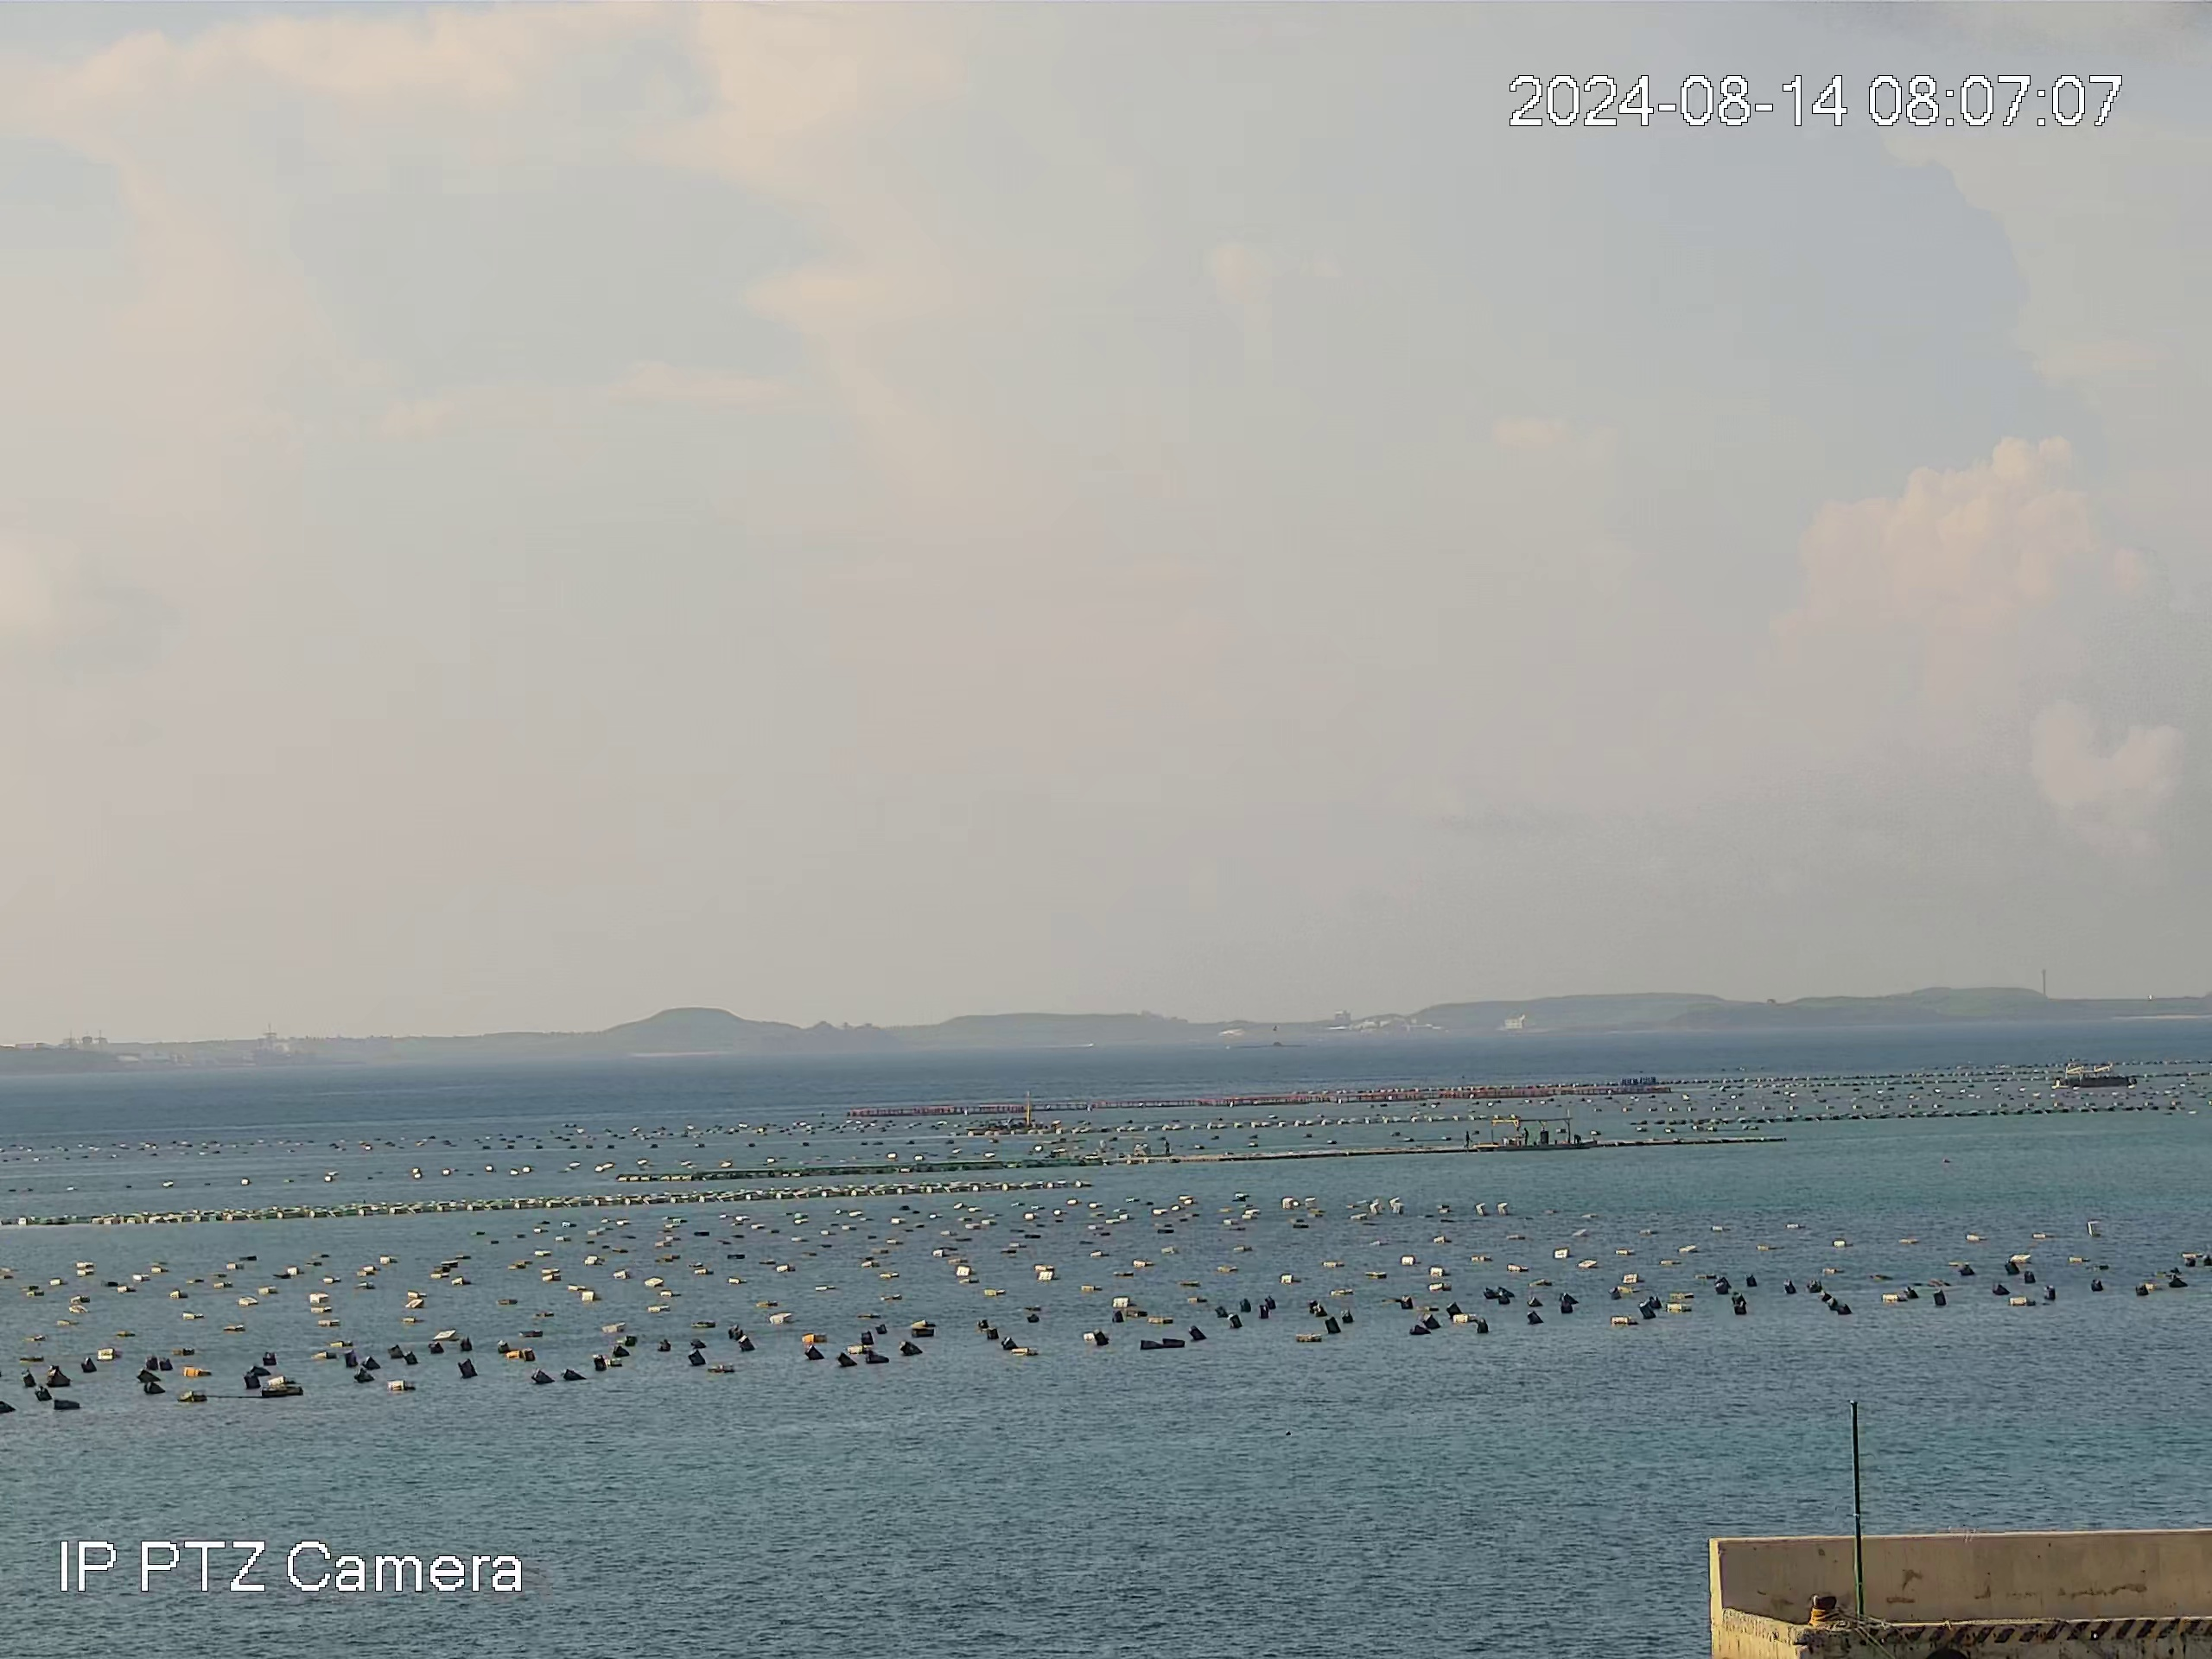boat: (1479, 1114, 1602, 1148), (2055, 1061, 2144, 1089)
